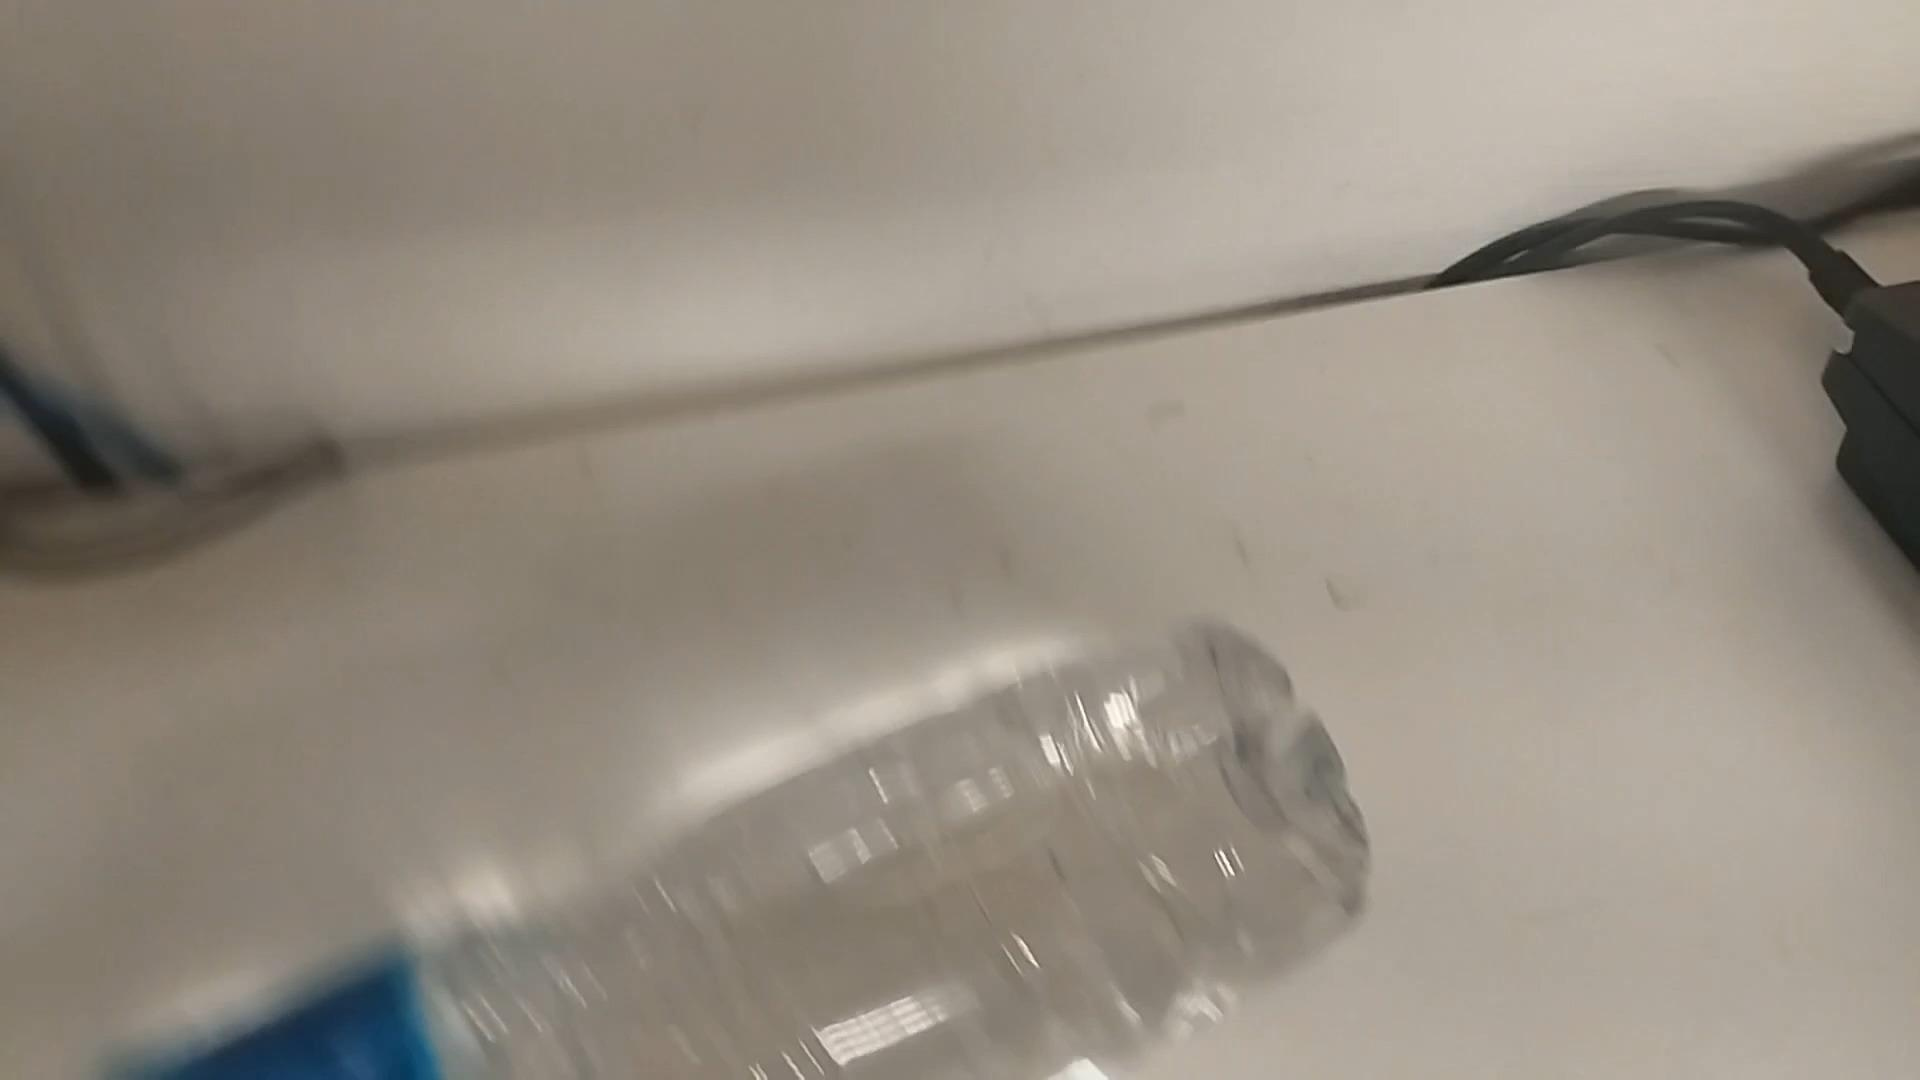agua: (112, 615, 1360, 1080)
